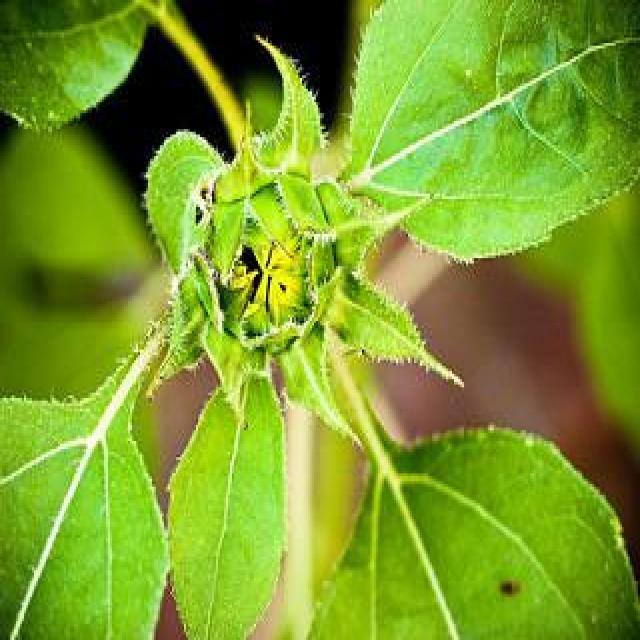sunflower: (150, 103, 438, 450)
